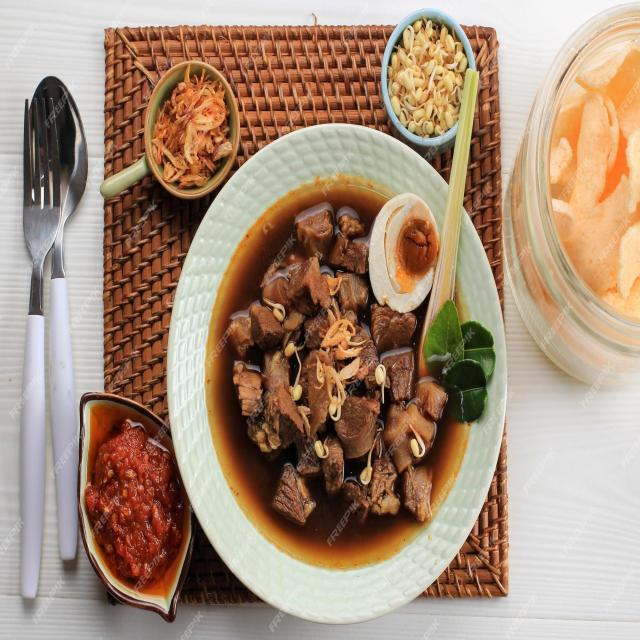Rawon: (206, 178, 479, 545)
